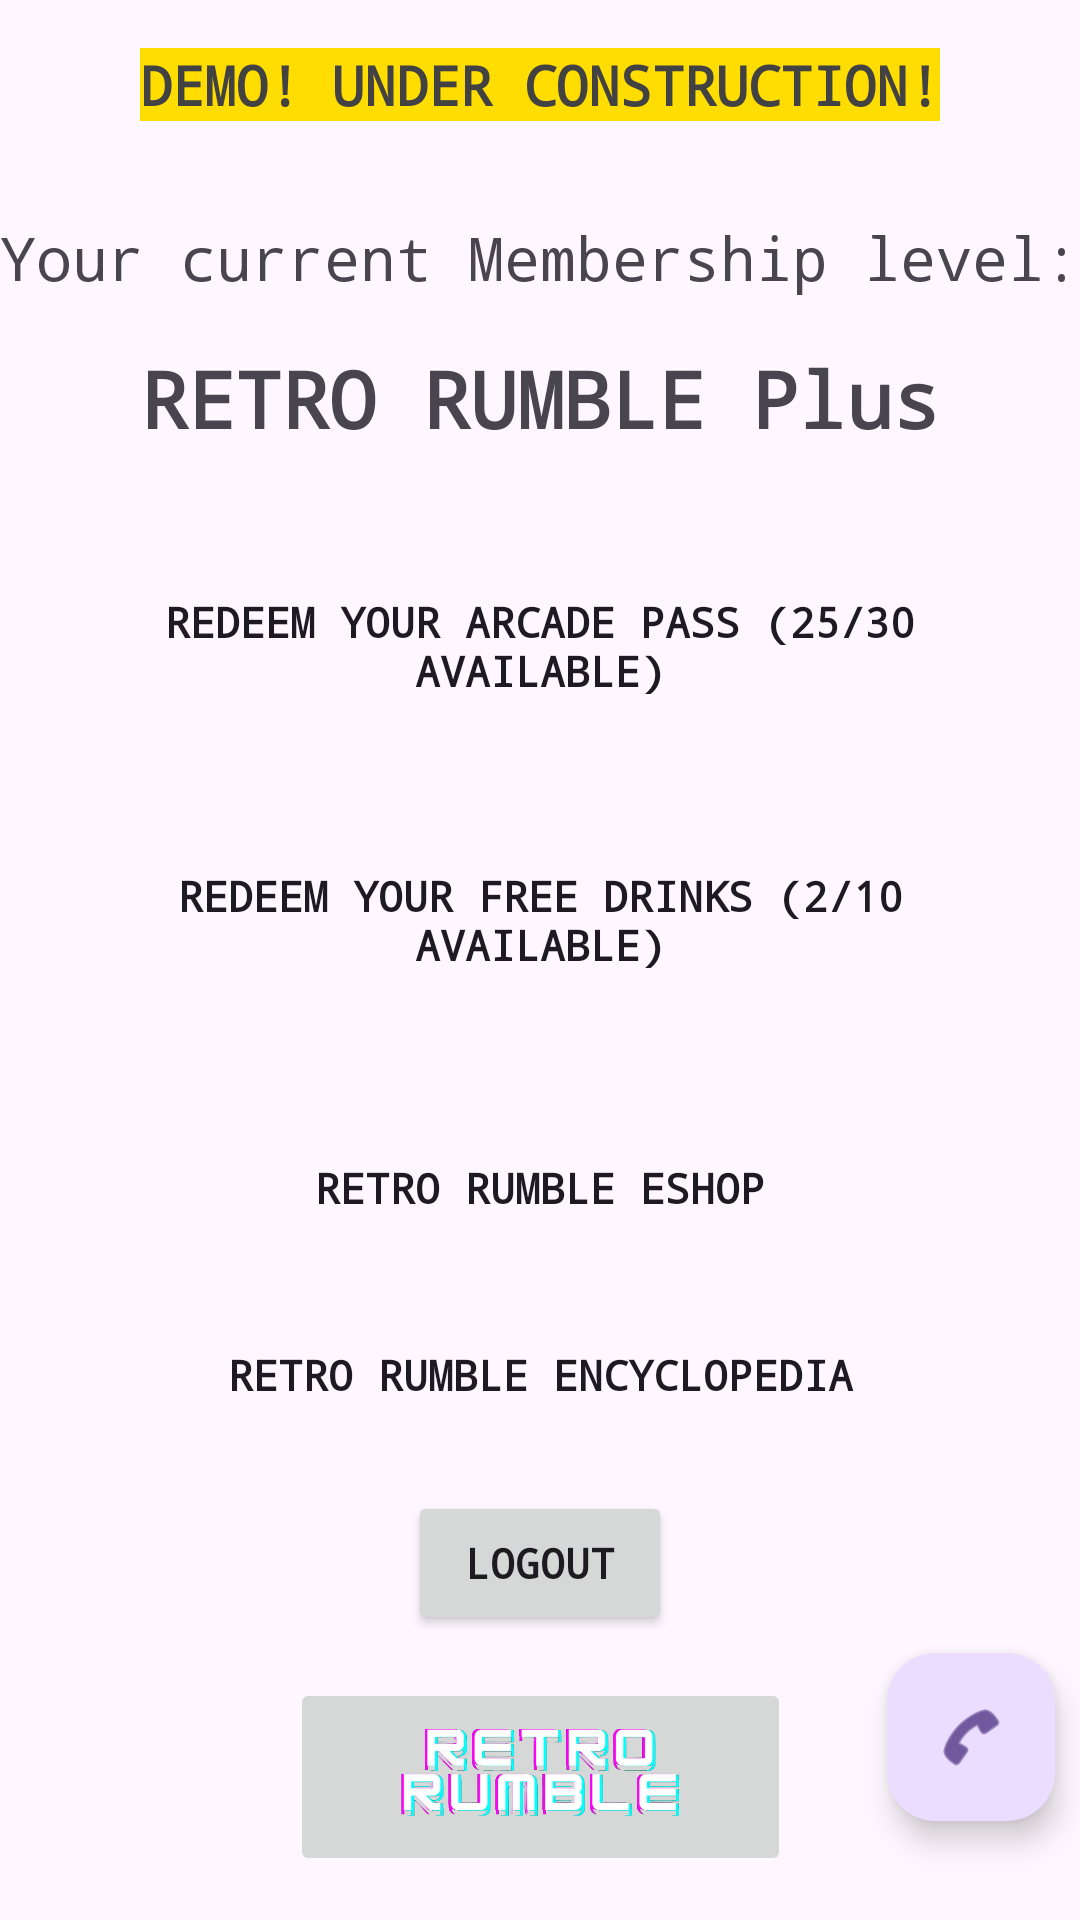

Icons on this 1080 x 1920 Android screen, each with its box as box=[x1, y1, x2, y2]:
call: box=[887, 1653, 1055, 1821]
